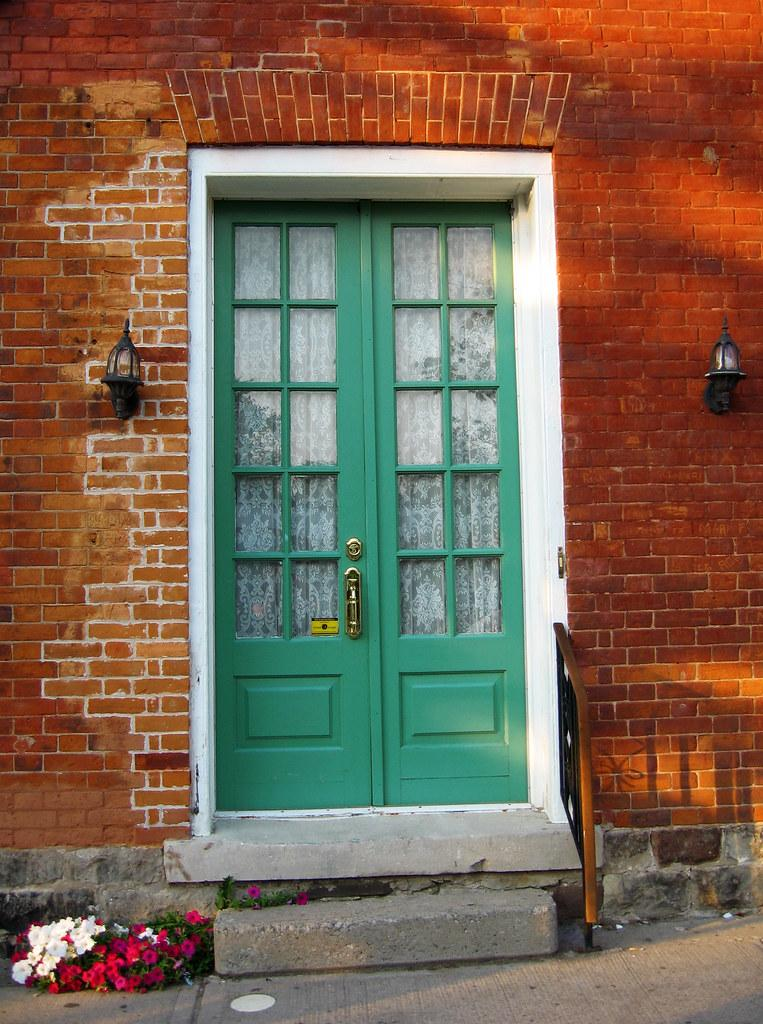door: (211, 196, 530, 813)
